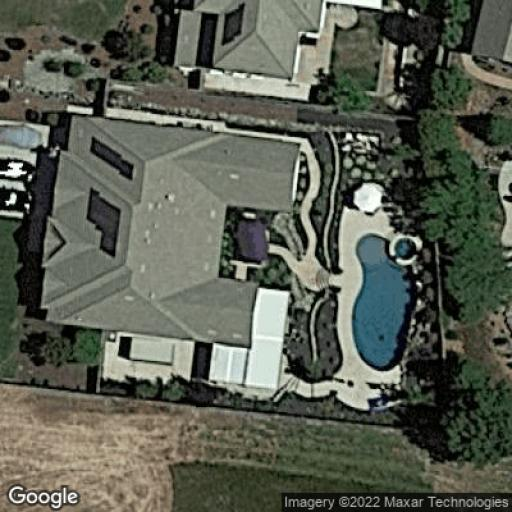solar-panel: (84, 184, 124, 262), (88, 136, 138, 182), (222, 2, 246, 48)
